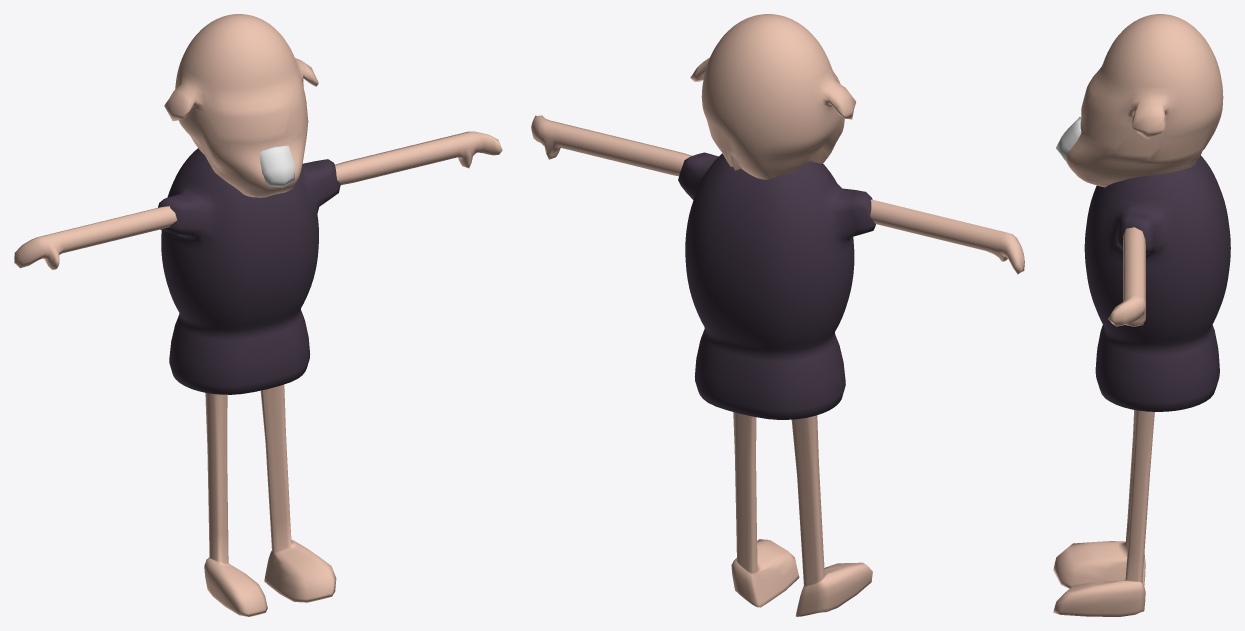
File: TallBoy.fbx
3 views of the same model, side by side, from view 1: azimuth 30°, elevation 25°; view 2: azimuth 150°, elevation 25°; view 3: azimuth 270°, elevation 25° (orthographic). The views are drawn at different scales.
Visible parts, largest first — view 1: pSphere4; view 2: pSphere4; view 3: pSphere4.
Boxes of the visible parts, x1=… form: pSphere4: x1=14, y1=14, x2=502, y2=616; pSphere4: x1=531, y1=14, x2=1024, y2=616; pSphere4: x1=1053, y1=14, x2=1230, y2=616.
Bounding box in the file's own units: 70.14 × 79.76 × 22.06.
